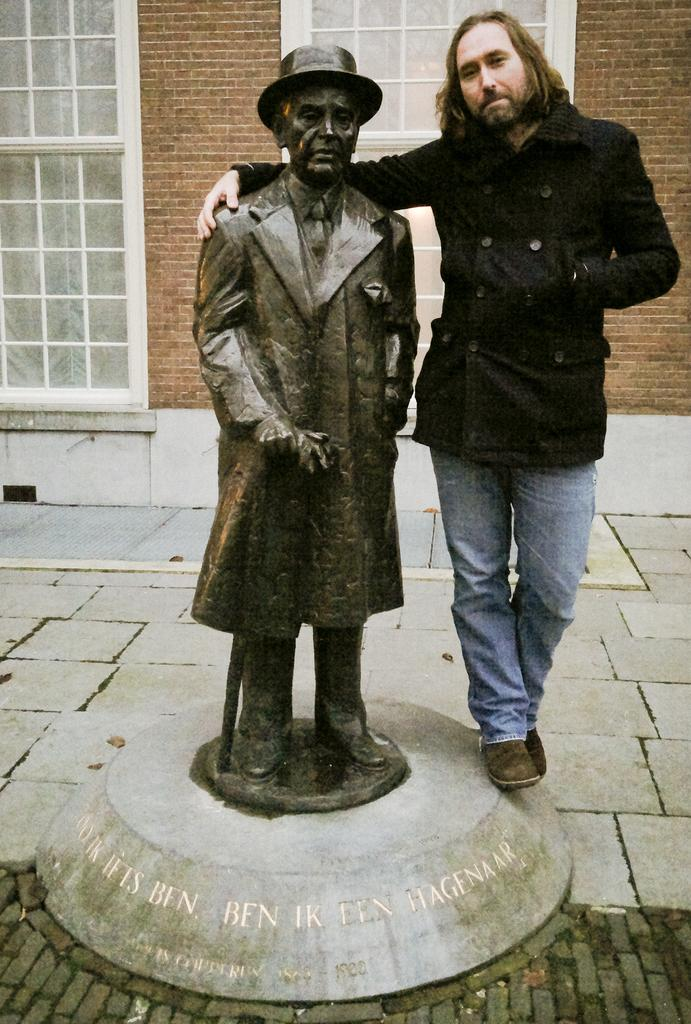Hat: (250, 40, 384, 124)
